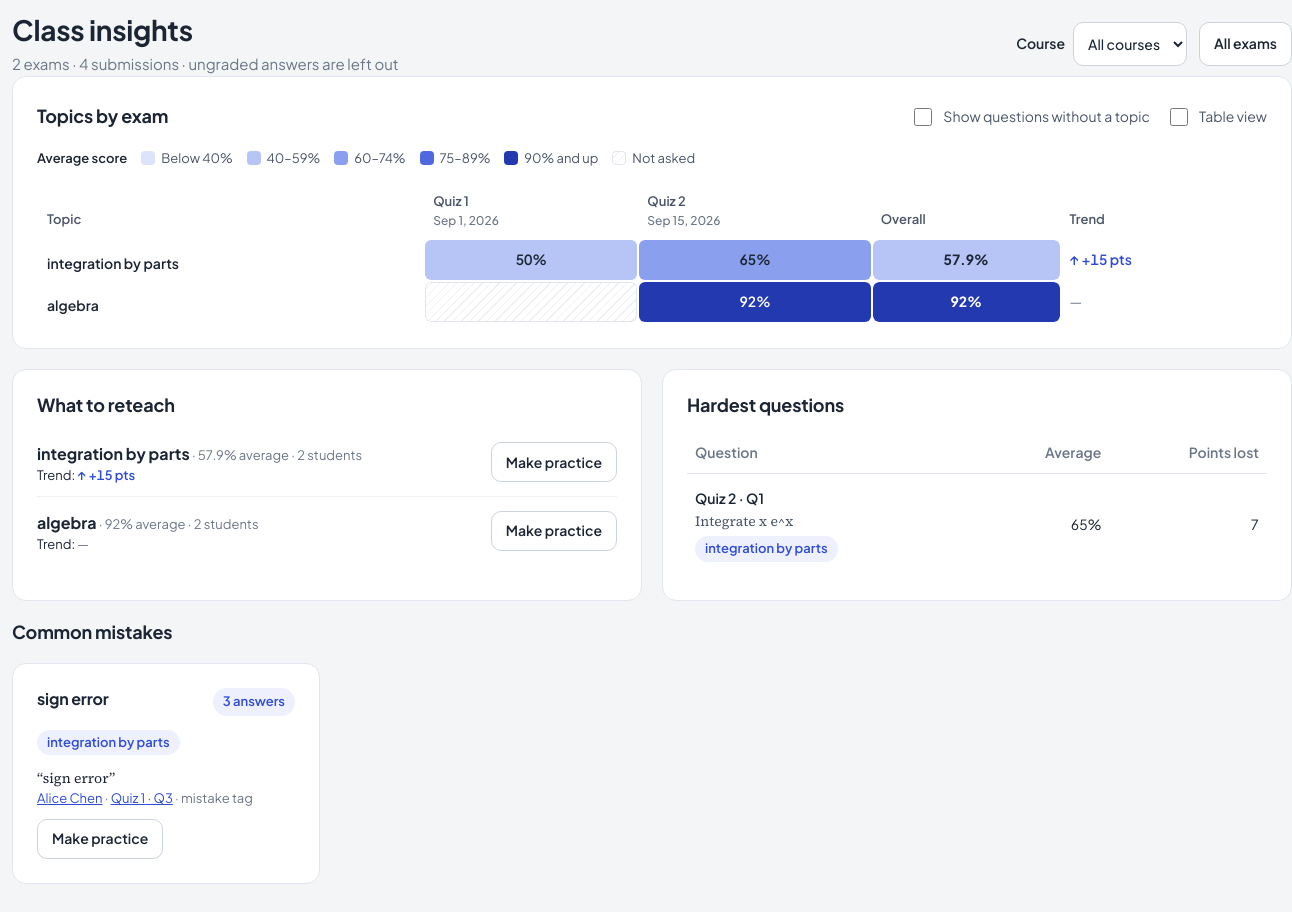
Scenario: InsightsPage › renders the heatmap, reteach list, hardest questions and mistakes
This screenshot has width=1292, height=912.
Expected: the text "↑ +15 pts" in the row of "50%" is shown, [1070,250,1132,268]
Expected: the text "No topic" is not shown
Click the checkbox labelled "Show questions without a topic". click: point(923, 116)
box: [914,108,932,126]
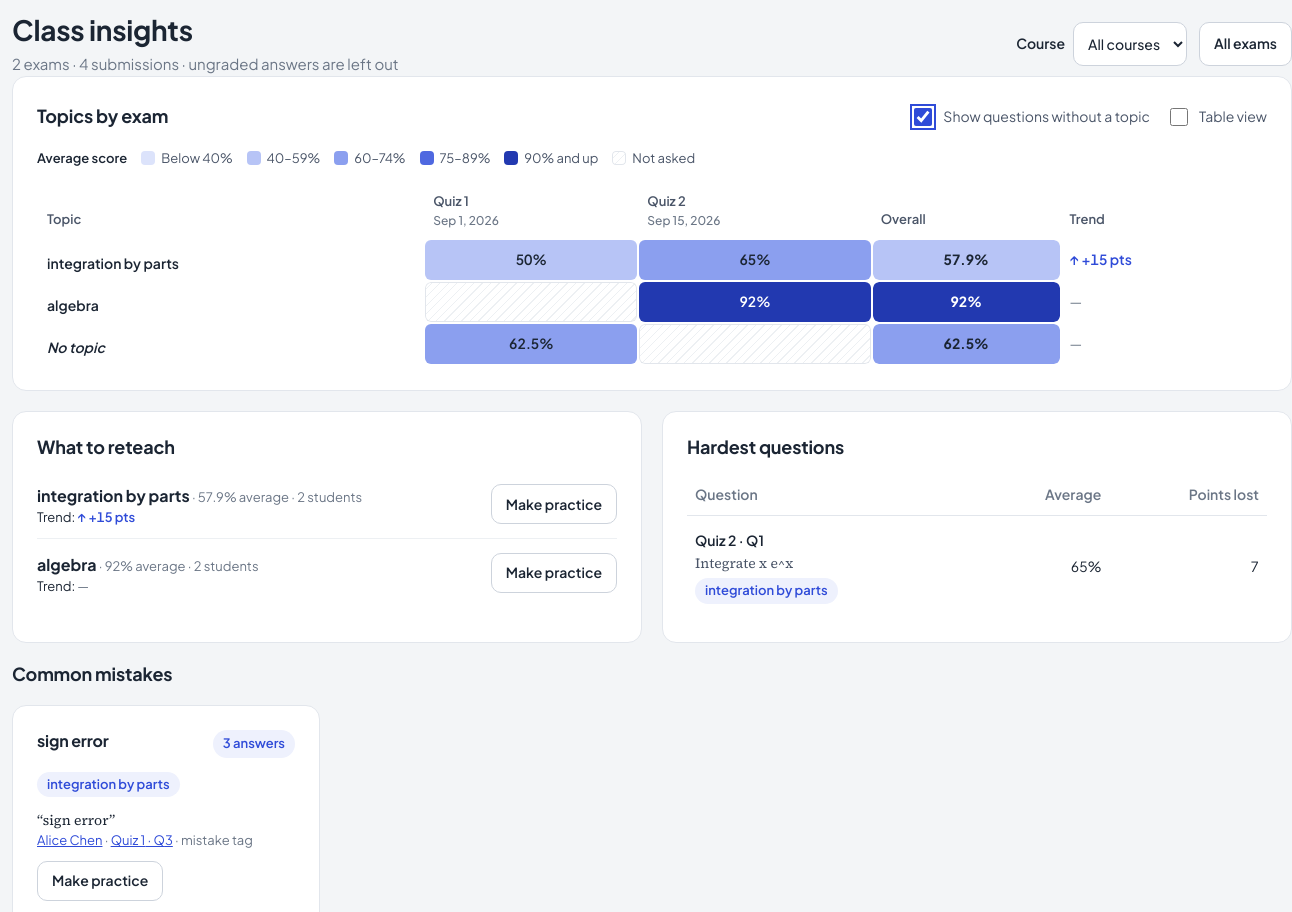
Expected: the text "3 answers" is shown, [213,730,295,758]
Expected: the text "No topic" is shown, [47,338,105,356]
